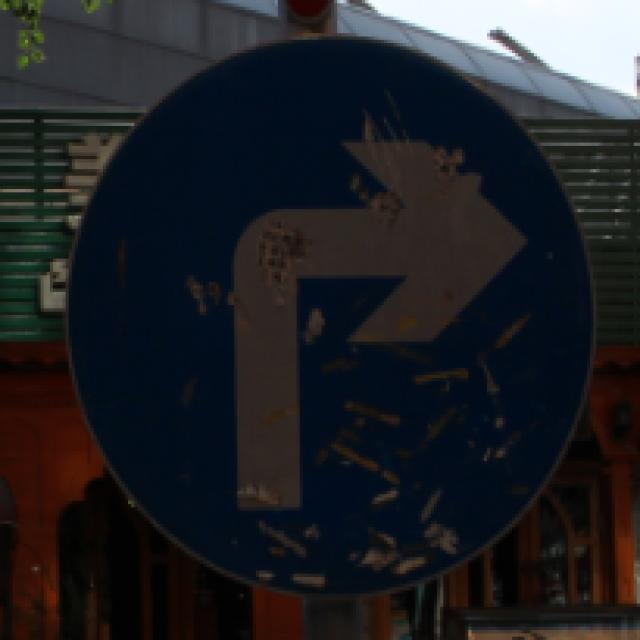Right: (81, 34, 594, 588)
